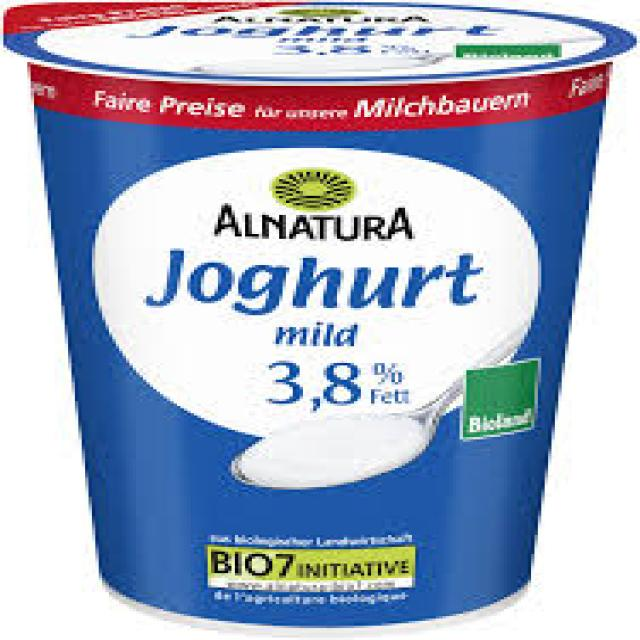plastic: (3, 0, 633, 623)
